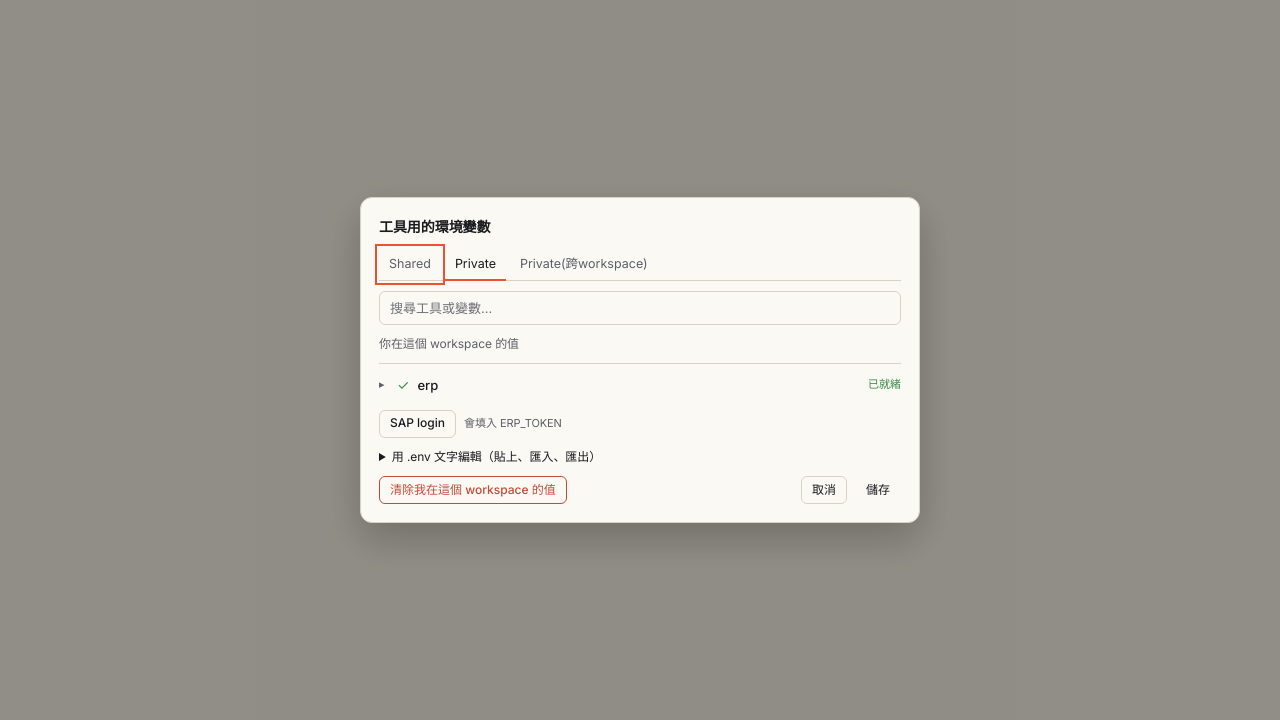
my environment variables in an item's Env panel › puts this item's own value above it
Click the button with test id "env-section-head-erp" at [884, 384], box [379, 370, 901, 400]
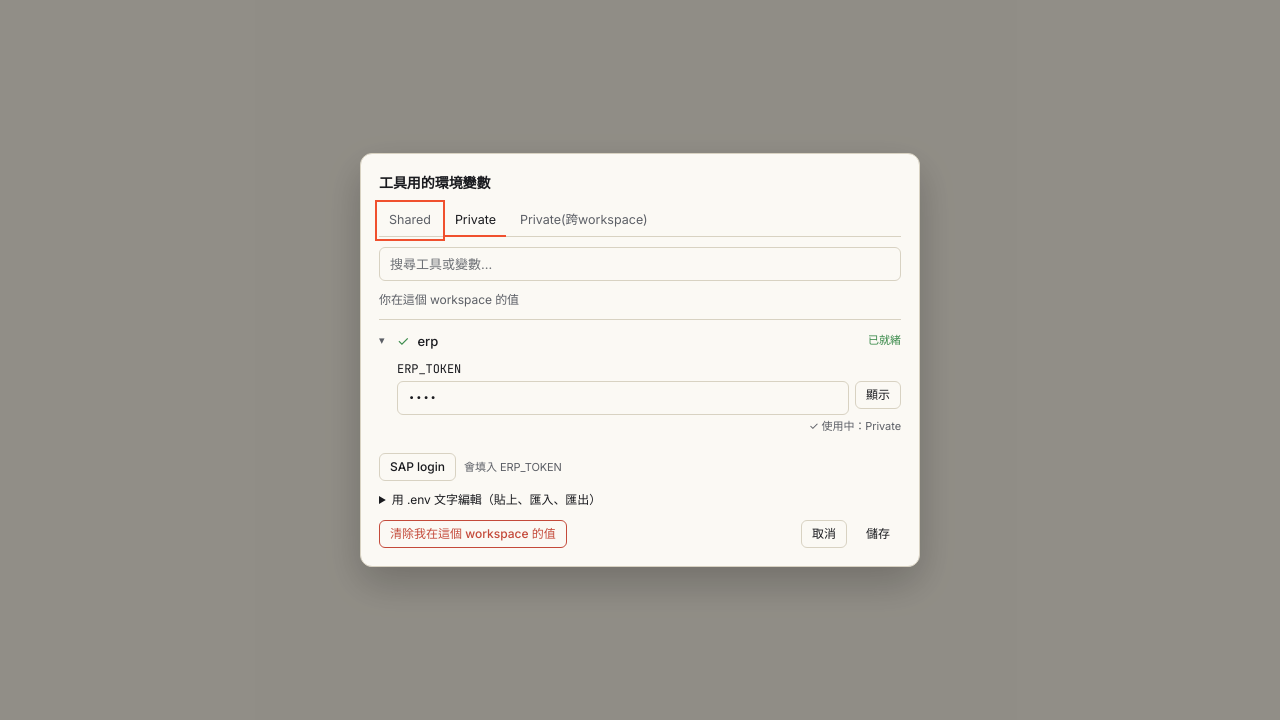
Result: the element with test id "env-mine-row-ERP_TOKEN" shows "使用中：Private" at [822, 419, 901, 433]
